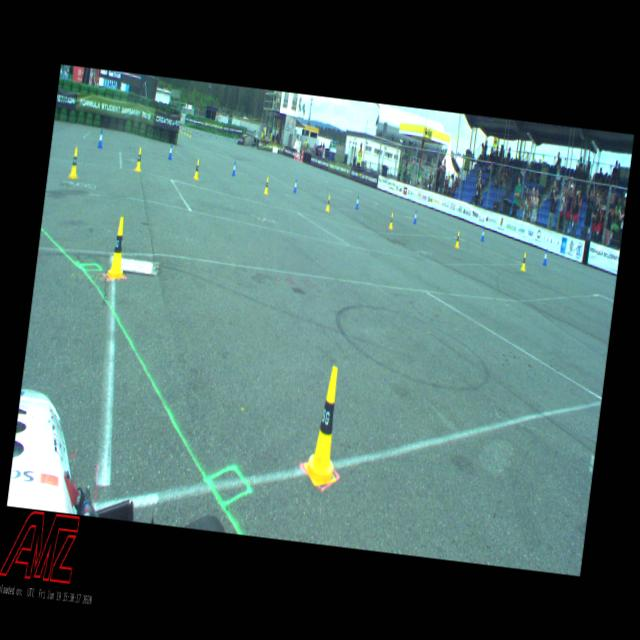blue_cone: (97, 128, 103, 148), (542, 250, 548, 266), (292, 179, 298, 193), (168, 144, 173, 160), (412, 210, 418, 223), (232, 161, 236, 176), (354, 196, 359, 208), (480, 227, 484, 241), (200, 131, 202, 135), (216, 134, 217, 138), (210, 132, 211, 136), (196, 129, 197, 133)
large_orange_cone: (300, 149, 304, 161), (296, 146, 299, 160), (298, 152, 300, 161), (294, 150, 296, 158)
orange_cone: (282, 145, 284, 150)
yellow_cone: (301, 365, 348, 487), (108, 216, 130, 278), (69, 147, 80, 178), (134, 148, 142, 170), (193, 159, 200, 179), (520, 252, 526, 270), (388, 213, 394, 229), (264, 176, 269, 194), (455, 232, 460, 248), (326, 195, 330, 211), (187, 130, 189, 136), (184, 128, 186, 134), (188, 130, 190, 136), (179, 126, 181, 131), (182, 128, 182, 133)
